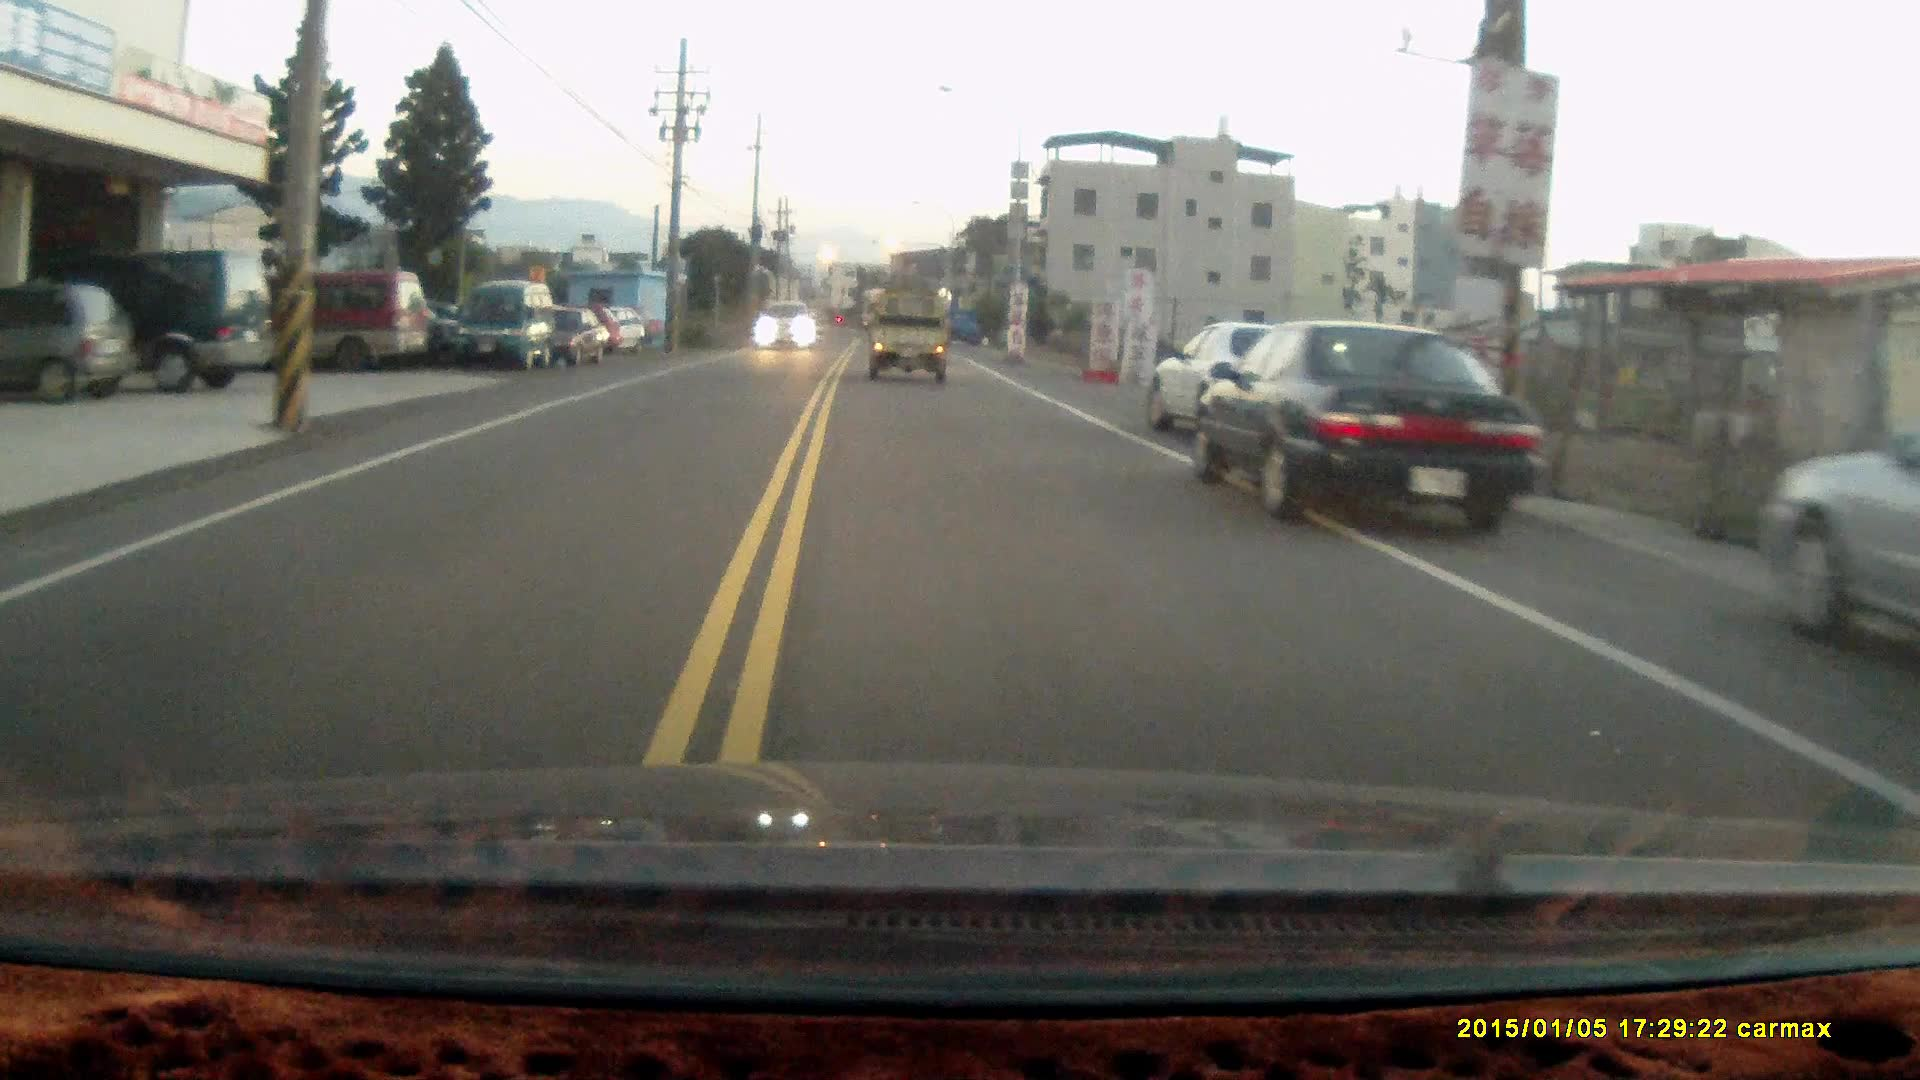vehicle: (1187, 316, 1542, 526), (1760, 411, 1920, 661), (22, 240, 277, 392), (229, 264, 431, 369), (1154, 318, 1315, 444), (1, 282, 137, 413), (446, 277, 555, 369), (866, 285, 949, 380), (529, 305, 613, 367), (756, 301, 820, 352)
